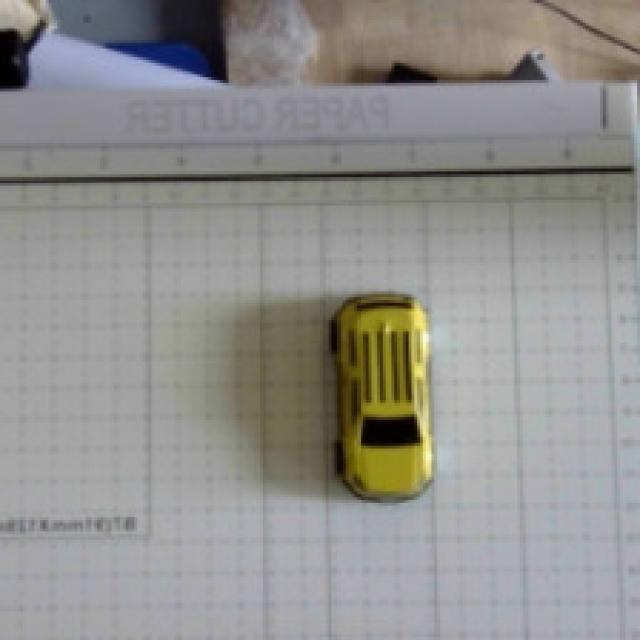Yellow Car: (230, 259, 504, 548)
